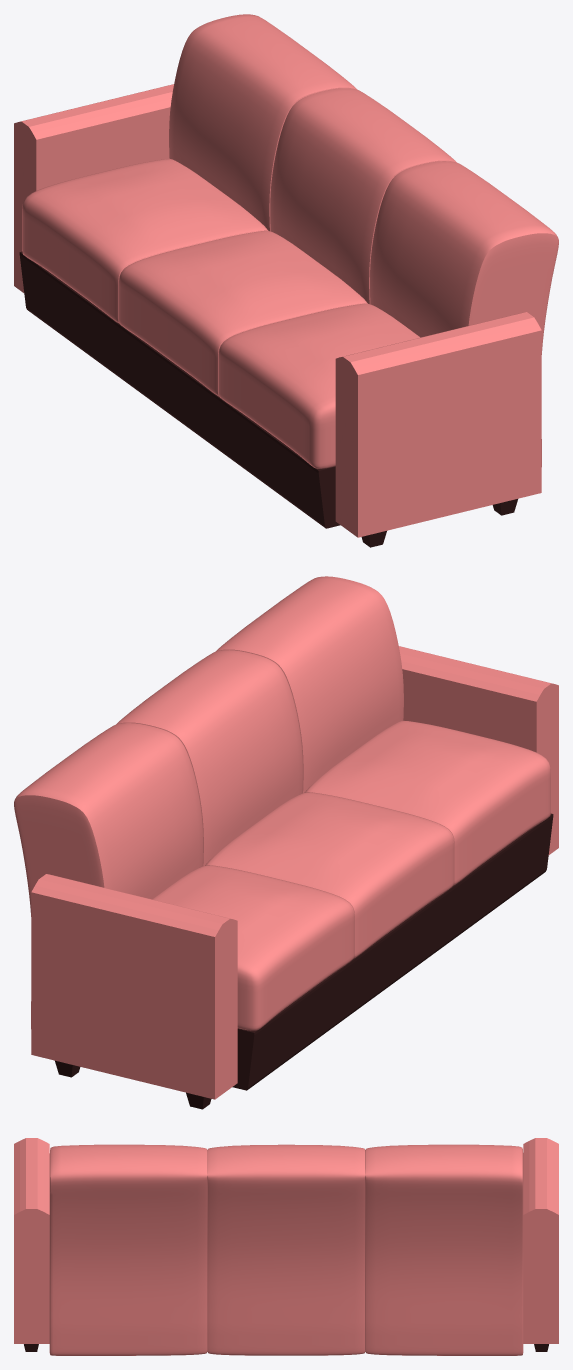
File: sofa.fbx
The picture shows the model from 3 angles, top to bottom: view 1: azimuth 30°, elevation 25°; view 2: azimuth 150°, elevation 25°; view 3: azimuth 270°, elevation 25°; orthographic projection. The views are drawn at different scales.
Parts seen in each view (by area): view 1: Cube, Cube_2_2, Cube_3_2, Cube_2, Cube_3_1_3; view 2: Cube, Cube_2_2, Cube_3_1_3, Cube_2, Cube_3_2; view 3: Cube, Cube_3_1_3, Cube_3_2.
Part boxes in pixels (bbox=[...]): Cube: bbox=[169, 14, 558, 466]; Cube_2_2: bbox=[22, 159, 420, 468]; Cube_3_2: bbox=[335, 312, 541, 537]; Cube_2: bbox=[19, 251, 340, 528]; Cube_3_1_3: bbox=[14, 84, 173, 292]; Cube: bbox=[14, 576, 403, 1028]; Cube_2_2: bbox=[152, 720, 550, 1030]; Cube_3_1_3: bbox=[31, 874, 237, 1099]; Cube_2: bbox=[232, 813, 553, 1090]; Cube_3_2: bbox=[398, 646, 558, 854]; Cube: bbox=[49, 1144, 523, 1355]; Cube_3_1_3: bbox=[523, 1138, 558, 1343]; Cube_3_2: bbox=[14, 1138, 49, 1343].
Bounding box in the file's own units: 188 × 195 × 460.
